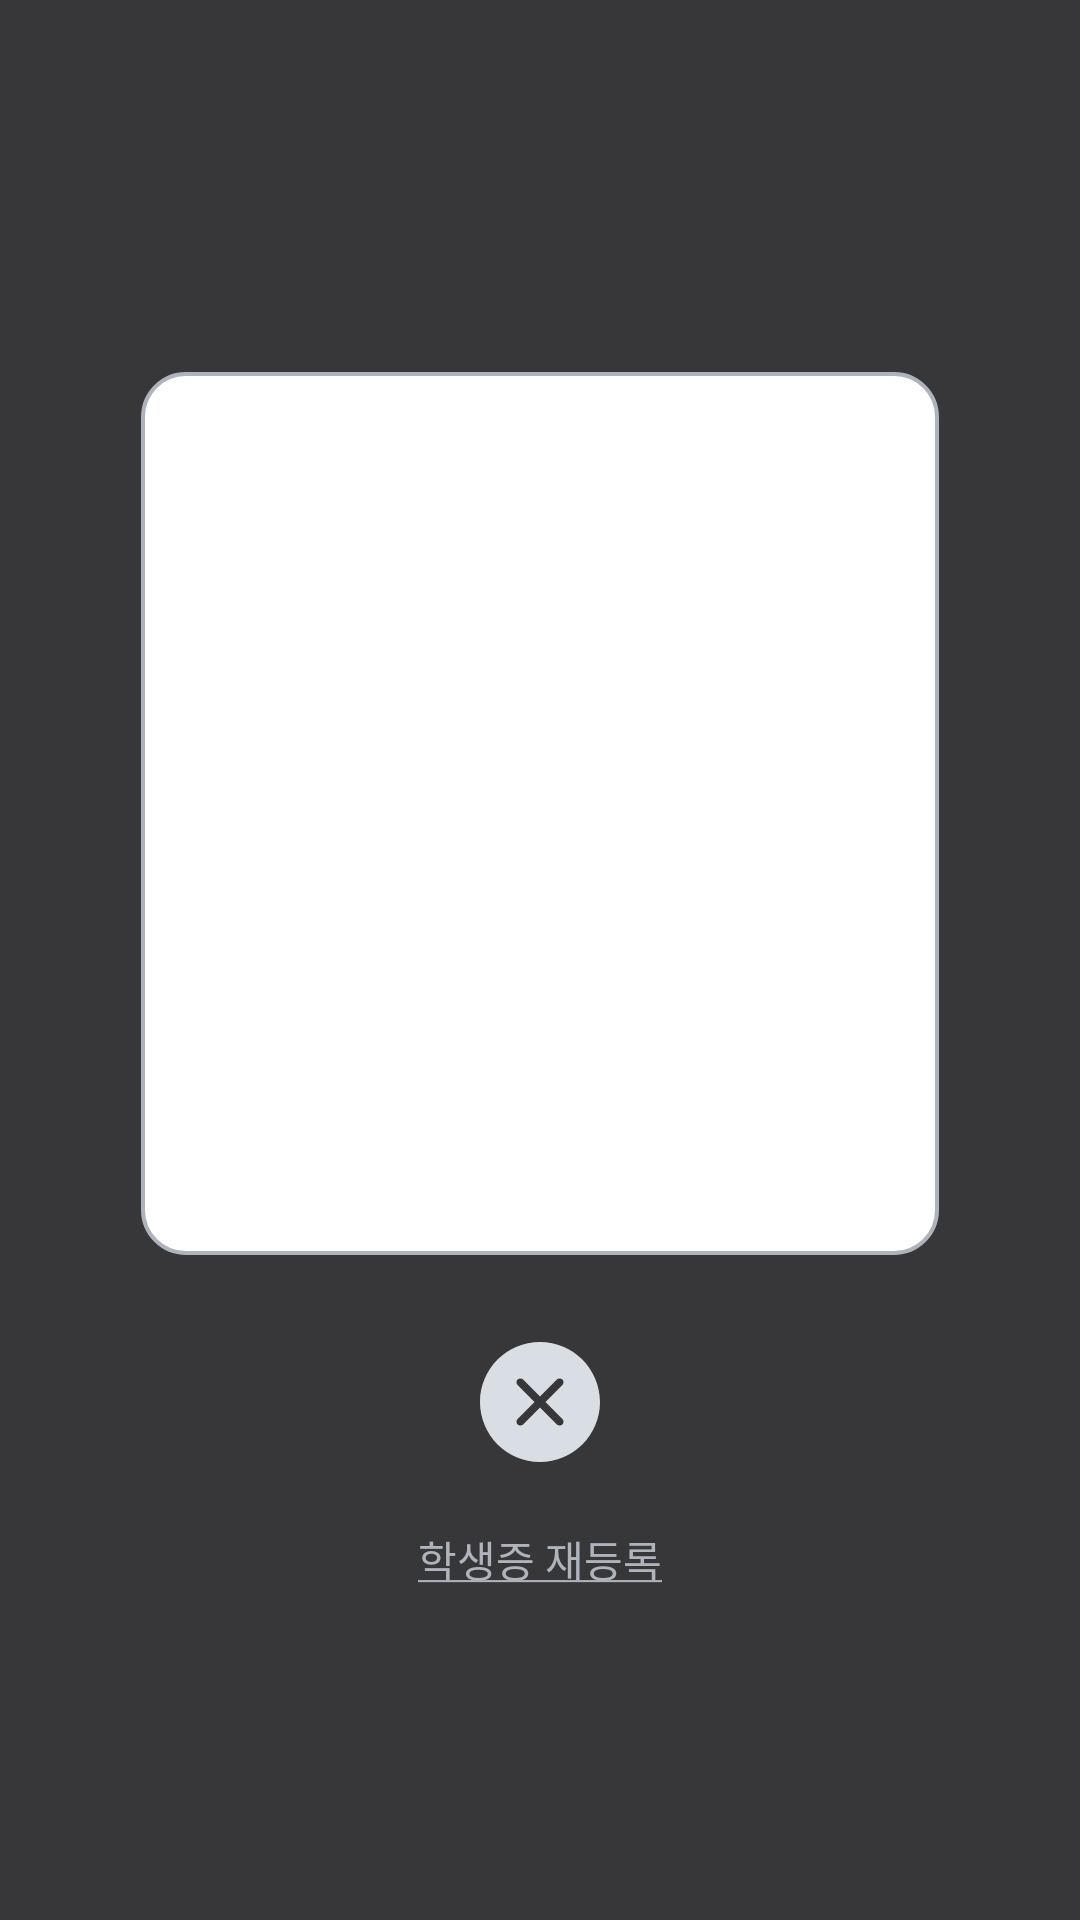

Screen size 1080px x 1920px. Icon name, then its center in pixels as [x,y]:
close circle: [540,1402]
